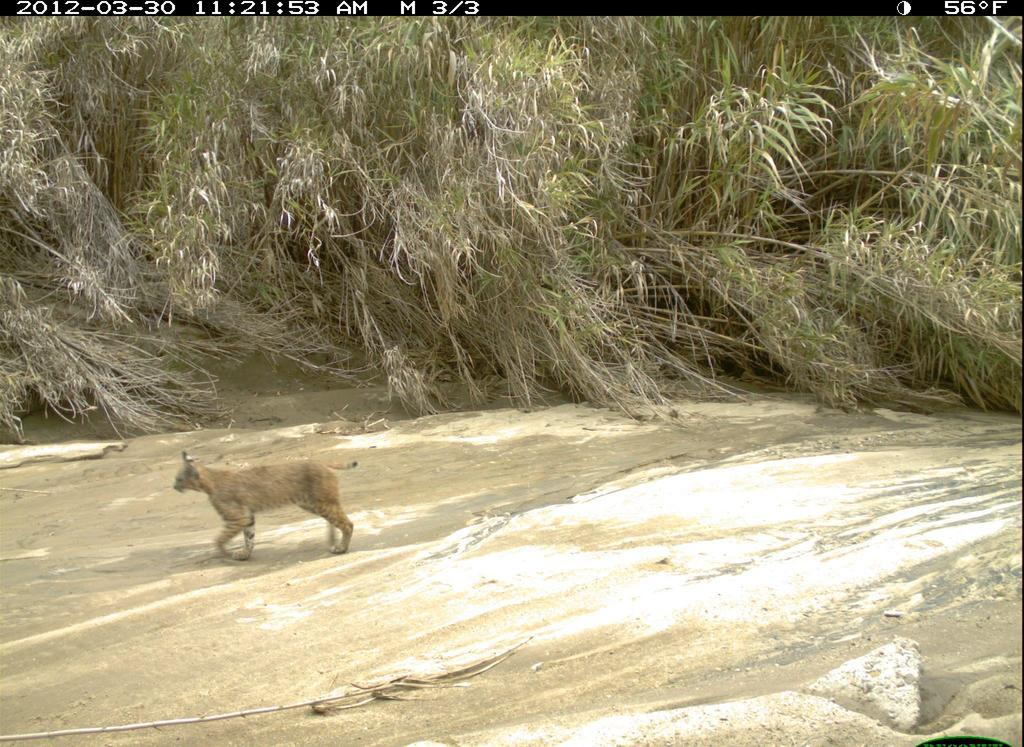bobcat: (169, 449, 362, 561)
